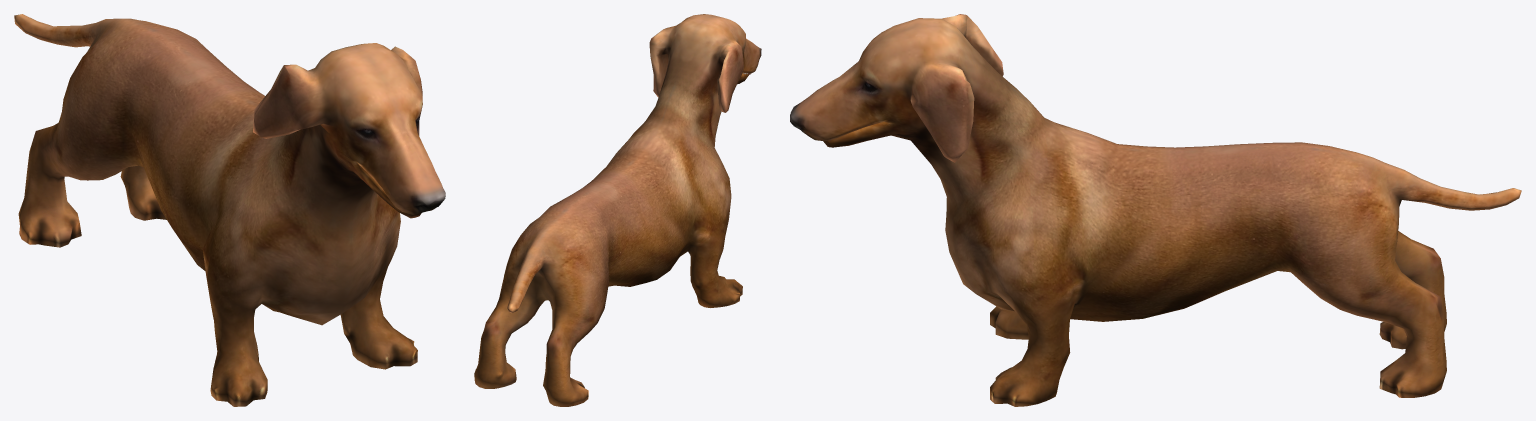
Rendered from dog_2.glb.
The picture shows the model from 3 angles, left to right: view 1: azimuth 30°, elevation 25°; view 2: azimuth 150°, elevation 25°; view 3: azimuth 270°, elevation 25°; orthographic projection. The views are drawn at different scales.
Parts seen in each view (by area): view 1: Dachshund_msh; view 2: Dachshund_msh; view 3: Dachshund_msh.
Part boxes in pixels (x1,y1,x2,y2): Dachshund_msh: (14, 14, 445, 406); Dachshund_msh: (474, 14, 761, 406); Dachshund_msh: (790, 14, 1521, 406).
Bounding box in the file's own units: 0.1978 × 0.3416 × 0.6741.
Materials: 1 (1 with a texture image).
